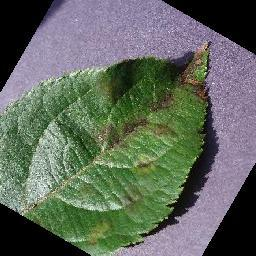apple healthy: (0, 39, 213, 255)
